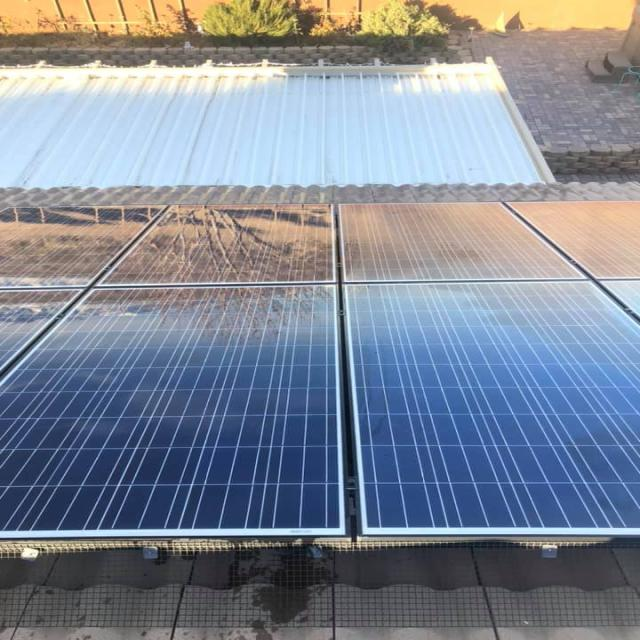clean-solar-panel: (2, 202, 637, 550)
